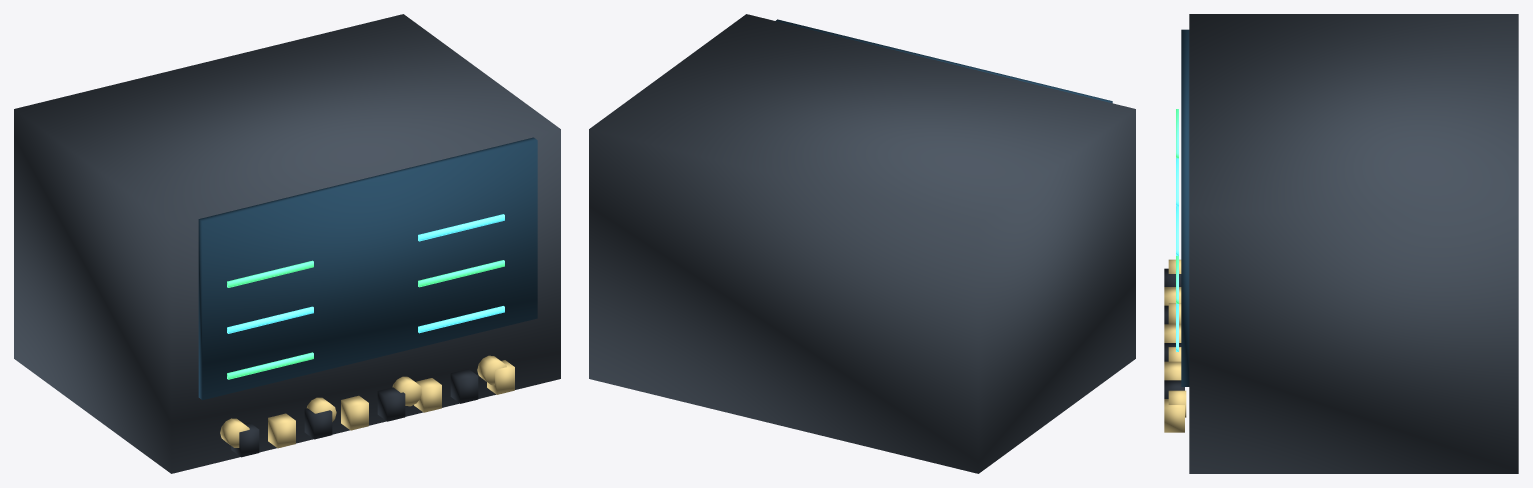
The model's file is 46_L94_FourChannelLogicAnalyzer.glb.
The picture shows the model from 3 angles, left to right: view 1: azimuth 30°, elevation 25°; view 2: azimuth 150°, elevation 25°; view 3: azimuth 270°, elevation 25°; orthographic projection. The views are drawn at different scales.
Parts seen in each view (by area): view 1: L94_FourChannelLogicAnalyzer; view 2: L94_FourChannelLogicAnalyzer; view 3: L94_FourChannelLogicAnalyzer.
Part boxes in pixels (<box>): L94_FourChannelLogicAnalyzer: <box>14,14,560,473</box>; L94_FourChannelLogicAnalyzer: <box>589,14,1135,473</box>; L94_FourChannelLogicAnalyzer: <box>1164,14,1518,473</box>.
Bounding box in the file's own units: 0.8 × 0.49 × 0.6025.
